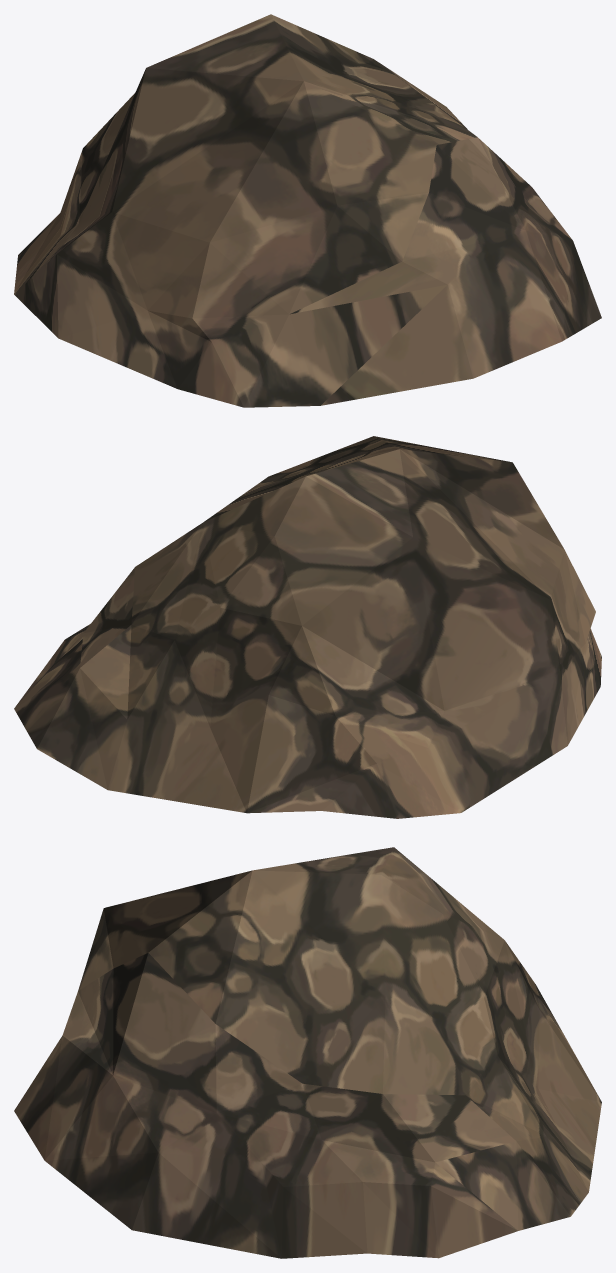
The model's file is trash-floor-4.fbx.
3 views of the same model, one above another, from view 1: azimuth 30°, elevation 25°; view 2: azimuth 150°, elevation 25°; view 3: azimuth 270°, elevation 25° (orthographic). The views are drawn at different scales.
Parts seen in each view (by area): view 1: trash-floor-4; view 2: trash-floor-4; view 3: trash-floor-4.
Part boxes in pixels (left/top/right/bottom): trash-floor-4: left=14, top=14, right=601, bottom=407; trash-floor-4: left=14, top=436, right=601, bottom=818; trash-floor-4: left=14, top=847, right=601, bottom=1258.
Size of the model in its own units: 2.39 by 1.28 by 2.5.
